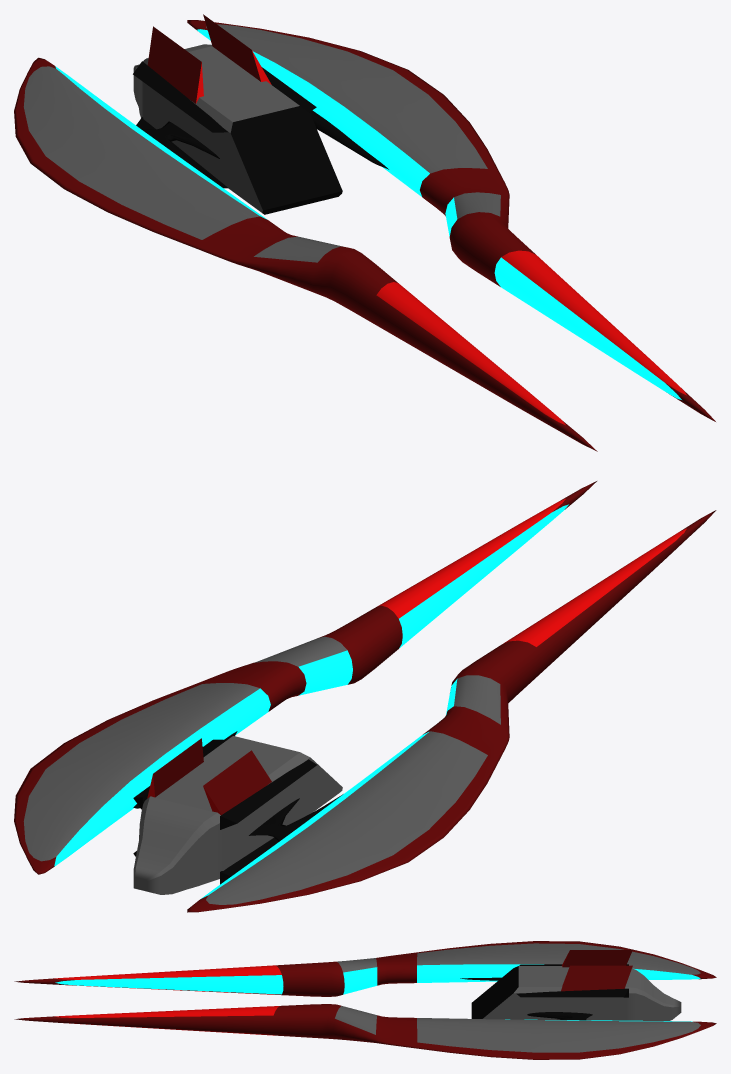
File: FoxShipUV.fbx
The picture shows the model from 3 angles, top to bottom: view 1: azimuth 30°, elevation 25°; view 2: azimuth 150°, elevation 25°; view 3: azimuth 270°, elevation 25°; orthographic projection. The views are drawn at different scales.
Visible parts, largest first — view 1: wing_right, wing_left, cockpit, flap01_right, flap_t_right, flap01_left, wingConnect_right, wingConnect_left; view 2: wing_left, wing_right, cockpit, flap01_right, flap_t_right, flap01_left, wingConnect_right; view 3: wing_left, wing_right, cockpit, flap01_left, flap01_right, flap_t__left, wingConnect_left.
Boxes of the visible parts, x1,y1,x2,y2 form: wing_right: [14, 57, 597, 451]; wing_left: [187, 20, 715, 421]; cockpit: [133, 44, 342, 214]; flap01_right: [147, 26, 203, 103]; flap_t_right: [133, 61, 227, 132]; flap01_left: [203, 14, 271, 84]; wingConnect_right: [141, 121, 219, 173]; wingConnect_left: [309, 110, 388, 169]; wing_left: [14, 481, 596, 874]; wing_right: [187, 510, 716, 912]; cockpit: [133, 736, 342, 894]; flap01_right: [203, 750, 271, 815]; flap_t_right: [220, 759, 316, 829]; flap01_left: [147, 738, 203, 798]; wingConnect_right: [249, 794, 342, 841]; wing_left: [14, 1004, 716, 1059]; wing_right: [14, 941, 716, 996]; cockpit: [471, 966, 681, 1020]; flap01_left: [561, 965, 632, 991]; flap01_right: [561, 950, 632, 967]; flap_t__left: [516, 988, 628, 997]; wingConnect_left: [527, 1012, 592, 1020].
Size of the model in its own units: 2050 by 510 by 5083.
